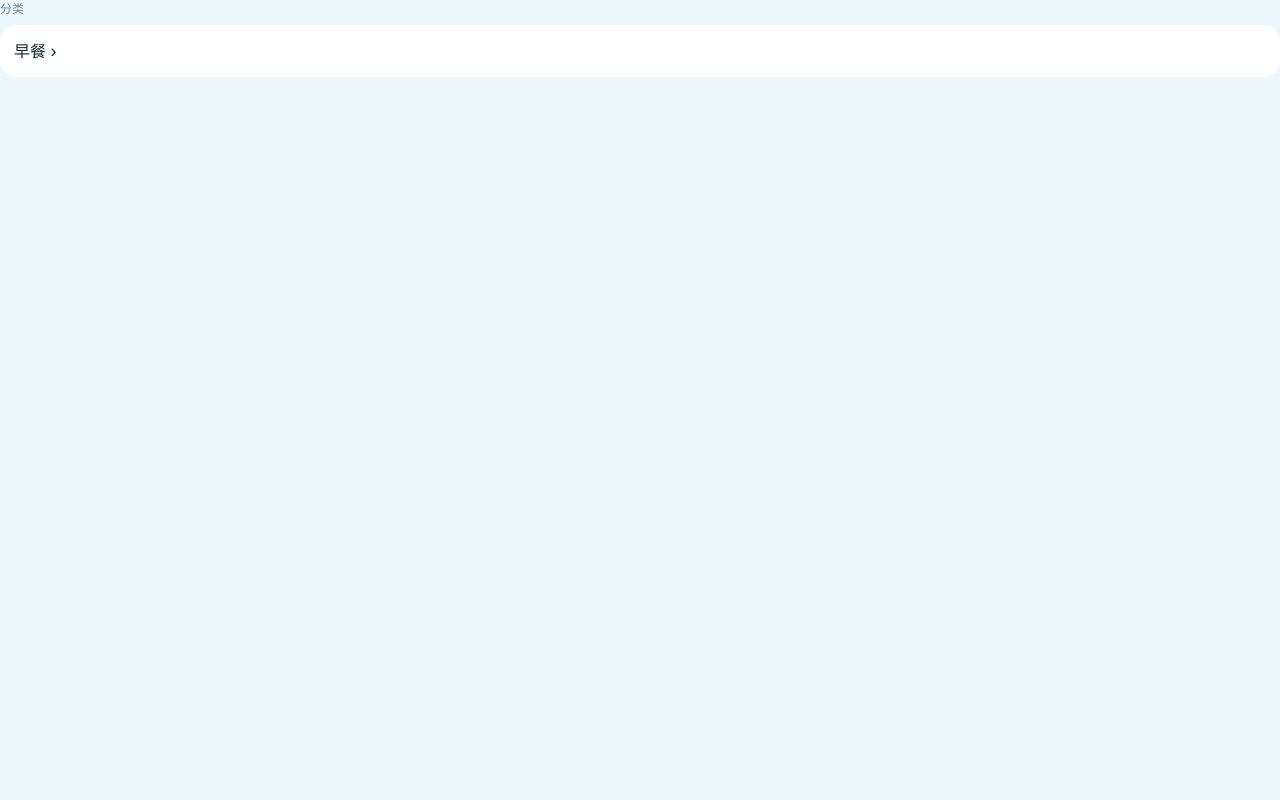
Test: CardSelect › chooses grouped options in primary and secondary card steps
Later steps or results of the test are not shown.
Click the button "早餐 ›" at (30, 51), box [0,25,1279,77]
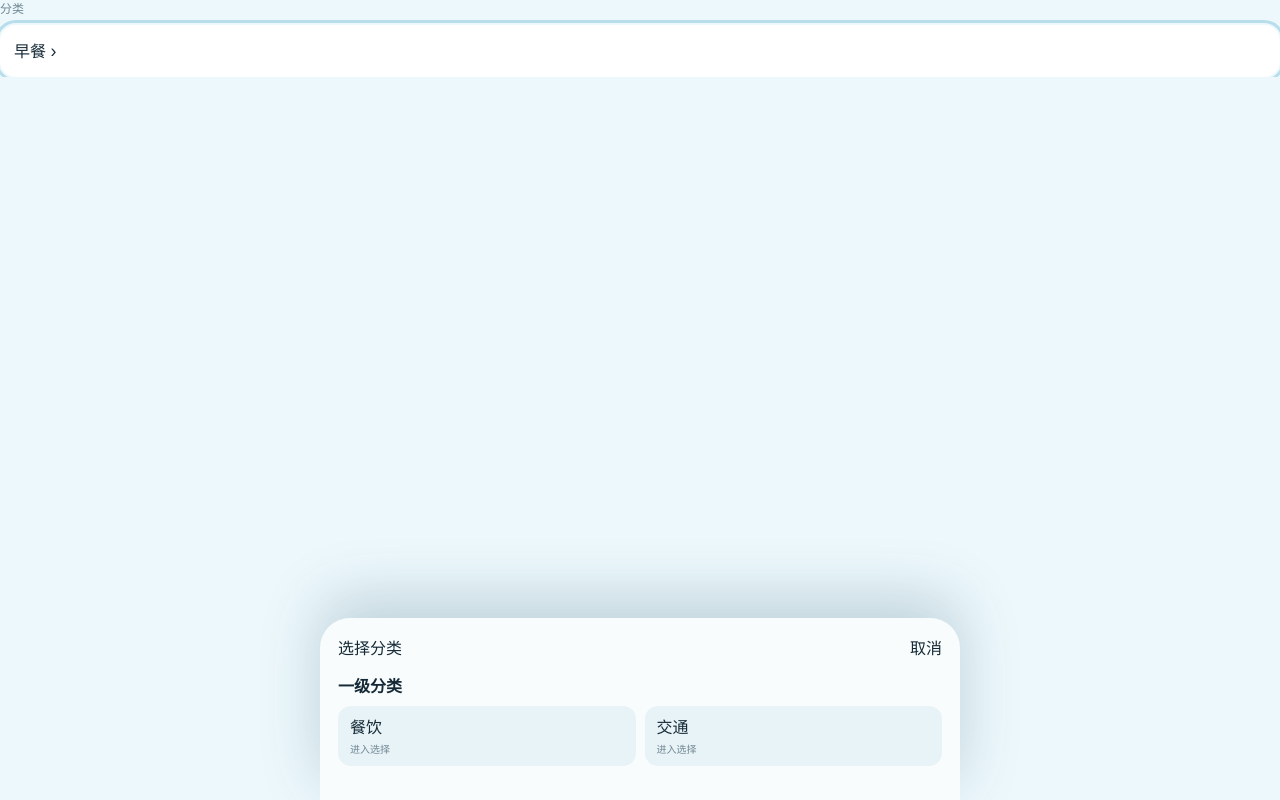
Expected: the button "餐饮 进入选择" is shown, [338,706,636,766]
